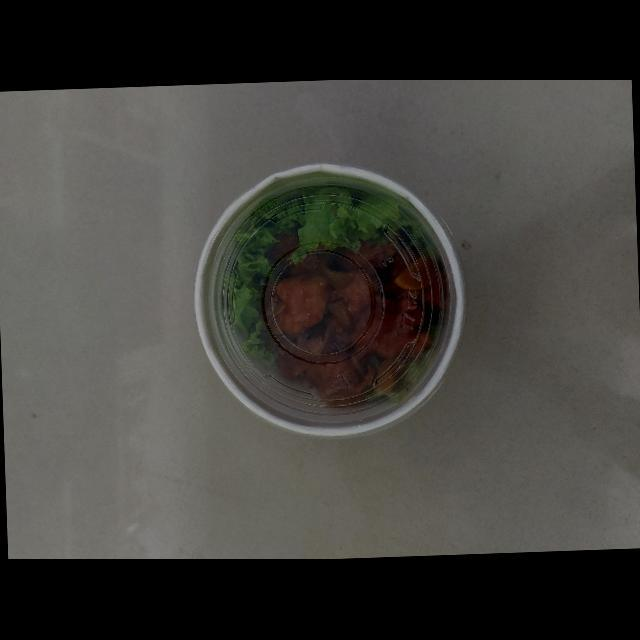rice-bowl: (180, 148, 491, 446)
